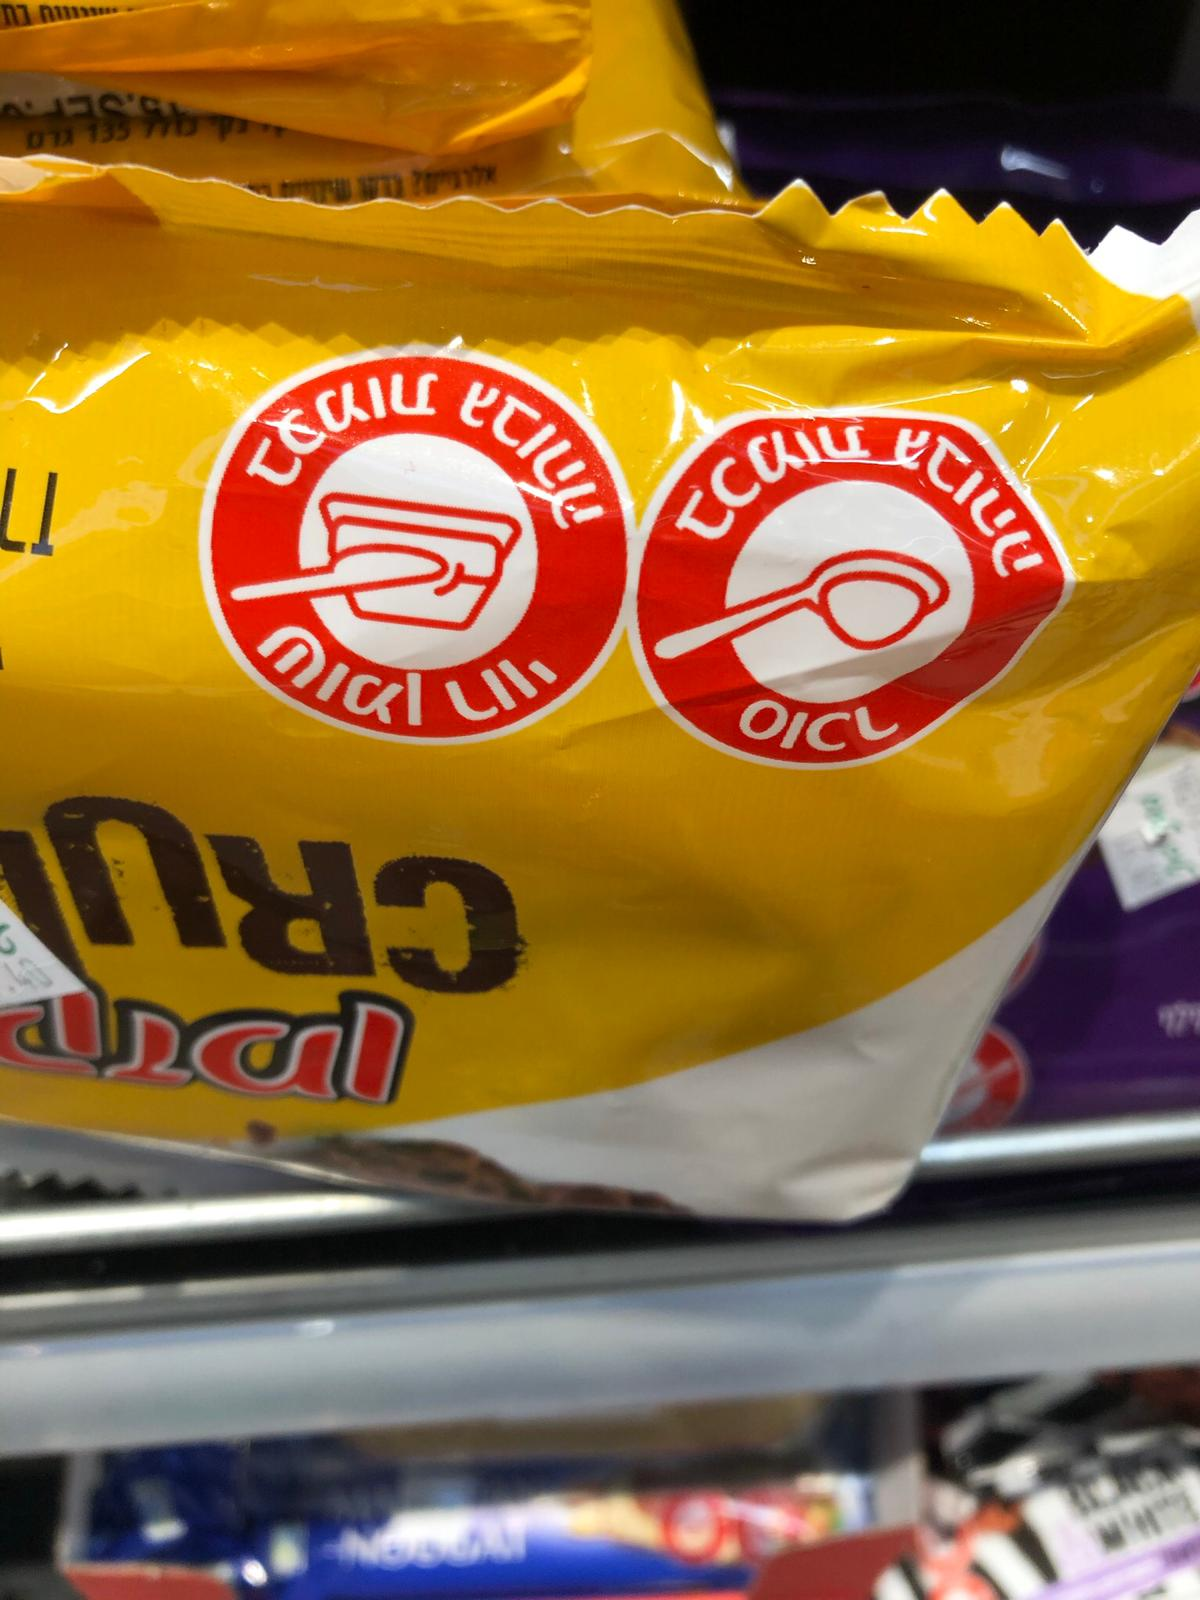fat: (202, 348, 637, 745)
sugar: (626, 406, 1076, 766)
